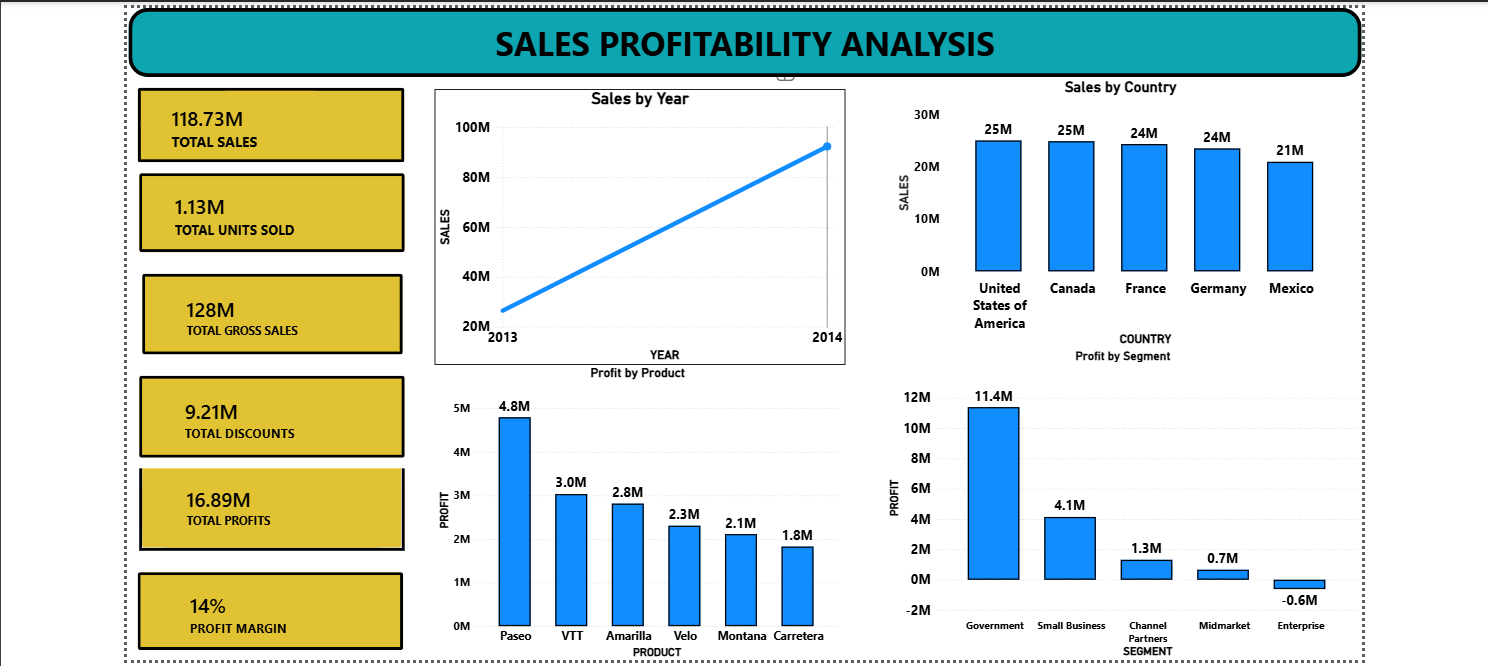

Layout of this report page (visuals, bound fields, positions):
{"tool":"powerbi","page":{"name":"Page 1","canvas":[2000,1056],"ordinal":0},"visuals":[{"type":"cardVisual","fields":{"Data":["Sum(Table2. Sales)"]},"box":[0,111.8,466.5,155.5],"z":0},{"type":"cardVisual","fields":{"Data":["Sum(Table2.Profit)"]},"box":[2.4,719.1,464,177.4],"z":1000},{"type":"cardVisual","fields":{"Data":["Sum(Table2.Units Sold)"]},"box":[2.4,250.2,464,162.8],"z":2000},{"type":"cardVisual","fields":{"Data":["Sum(Table2.Gross Sales)"]},"box":[7.3,413,456.7,165.2],"z":3000},{"type":"cardVisual","fields":{"Data":["Sum(Table2.Discounts)"]},"box":[2.4,578.2,464,167.6],"z":4000},{"type":"cardVisual","fields":{"Data":["Table2.PROFIT MARGIN"]},"box":[0,896.5,464,160.3],"z":5000},{"type":"lineChart","title":"Sales by Year","fields":{"Category":["Table2.Year"],"Y":["Sum(Table2. Sales)"]},"box":[498,131.2,665.7,447],"z":6000},{"type":"clusteredColumnChart","title":"  Sales by Country","fields":{"Category":["Table2.Country"],"Y":["Sum(Table2. Sales)"]},"box":[1241.5,114.2,736.1,437.3],"z":7000},{"type":"clusteredColumnChart","title":"Profit by Product","fields":{"Category":["Table2.Product"],"Y":["Sum(Table2.Profit)"]},"box":[498,578.2,658.4,478.6],"z":8000},{"type":"clusteredColumnChart","title":"Profit by Segment","fields":{"Category":["Table2.Segment"],"Y":["Sum(Table2.Profit)"]},"box":[1226.9,551.5,772.6,505.3],"z":9000},{"type":"shape","box":[2.4,0,1997.1,111.8],"z":10000}]}

Visuals, with their boxes on the page's 2000x1056 design canvas (x1, y1, x2, y2). These are canvas units, not pixel positions in the 1488x666 screenshot, which may show the page scaled, cropped or inside an application window:
cardVisual - Sum(Table2. Sales): bbox=[0, 112, 466, 267]
cardVisual - Sum(Table2.Profit): bbox=[2, 719, 466, 896]
cardVisual - Sum(Table2.Units Sold): bbox=[2, 250, 466, 413]
cardVisual - Sum(Table2.Gross Sales): bbox=[7, 413, 464, 578]
cardVisual - Sum(Table2.Discounts): bbox=[2, 578, 466, 746]
cardVisual - Table2.PROFIT MARGIN: bbox=[0, 896, 464, 1057]
"Sales by Year" lineChart: bbox=[498, 131, 1164, 578]
"  Sales by Country" clusteredColumnChart: bbox=[1242, 114, 1978, 552]
"Profit by Product" clusteredColumnChart: bbox=[498, 578, 1156, 1057]
"Profit by Segment" clusteredColumnChart: bbox=[1227, 552, 2000, 1057]
shape: bbox=[2, 0, 2000, 112]
